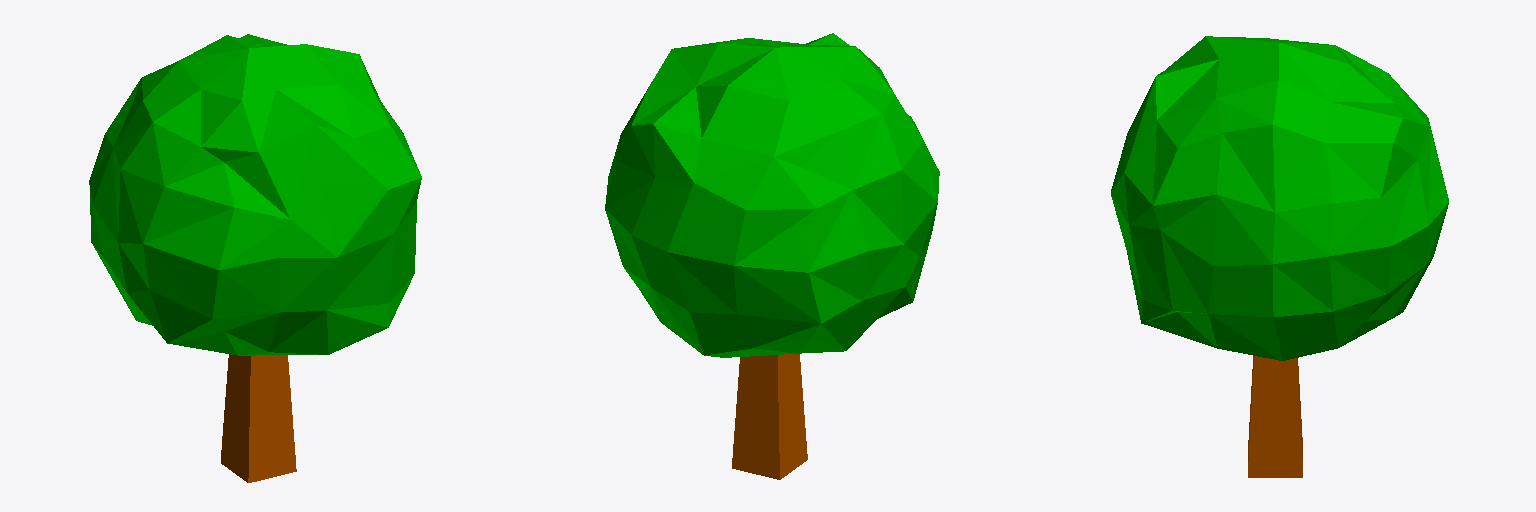
The model's file is Tree1.obj.
3 views of the same model, side by side, from view 1: azimuth 30°, elevation 25°; view 2: azimuth 150°, elevation 25°; view 3: azimuth 270°, elevation 25° (orthographic).
Visible parts, largest first — view 1: TreeLeaves1, TreeTrunk; view 2: TreeLeaves1, TreeTrunk; view 3: TreeLeaves1, TreeTrunk.
Part boxes in pixels (x1,y1,x2,y2): TreeLeaves1: (89, 34, 421, 355); TreeTrunk: (221, 354, 296, 482); TreeLeaves1: (605, 33, 939, 357); TreeTrunk: (732, 354, 807, 479); TreeLeaves1: (1111, 36, 1448, 360); TreeTrunk: (1248, 356, 1302, 477).
Size of the model in its own units: 3.51 by 4.98 by 3.64.